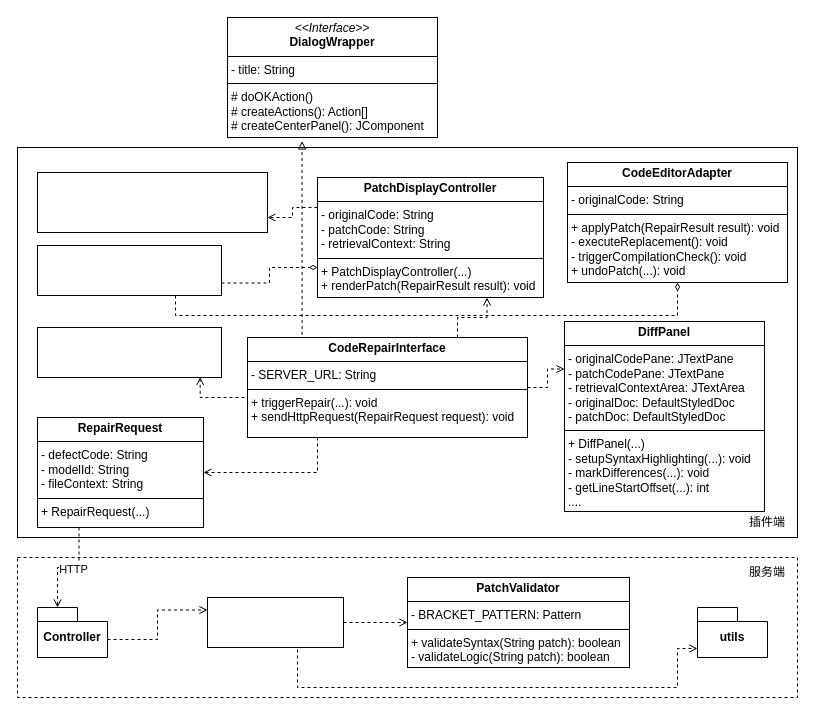
Some shapes in this 815 by 715 pixel diagram are drawn without their labels. Each missing label, with the centre of its shape:
"CompileTrigger + triggerCompile(String projectPath): void" belongs at point 152,202.
"ModelExecutor" belongs at point 275,622.
"RepairResult ..." belongs at point 129,270.
"RetrievalPreview + showRetrievalPreview(...): void" belongs at point 129,352.
